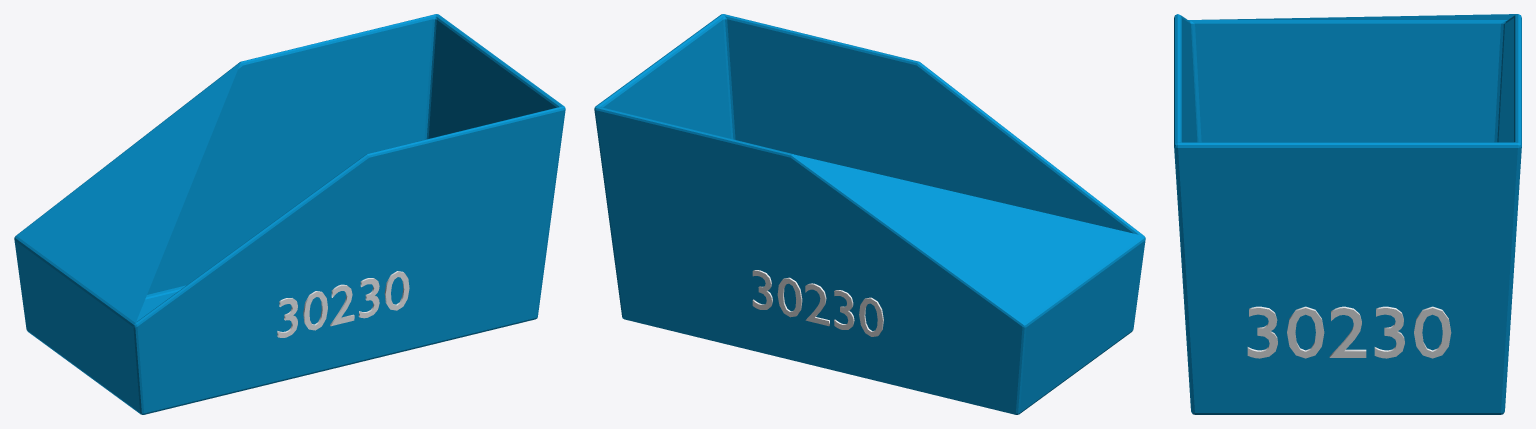
The picture shows the model from 3 angles, left to right: view 1: azimuth 30°, elevation 25°; view 2: azimuth 150°, elevation 25°; view 3: azimuth 270°, elevation 25°; orthographic projection. The views are drawn at different scales.
Visible parts, largest first — view 1: us-picking-bin-30230; view 2: us-picking-bin-30230; view 3: us-picking-bin-30230.
Part boxes in pixels (<box>): us-picking-bin-30230: <box>14,14,565,414</box>; us-picking-bin-30230: <box>594,14,1145,414</box>; us-picking-bin-30230: <box>1174,14,1521,414</box>.
Size of the model in its own units: 0.2681 by 0.127 by 0.1398.
